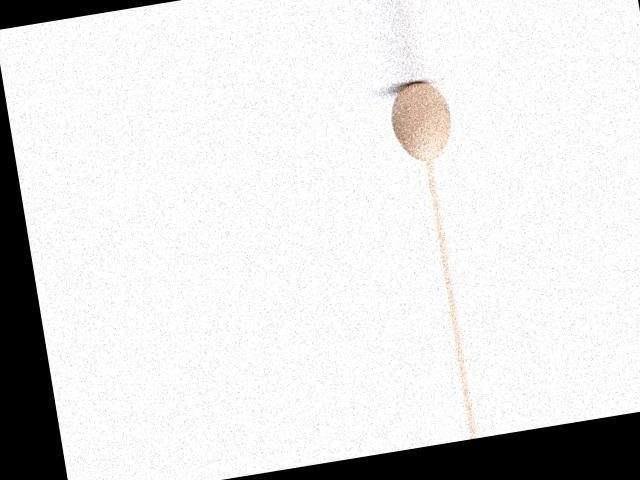egg: (386, 77, 457, 165)
